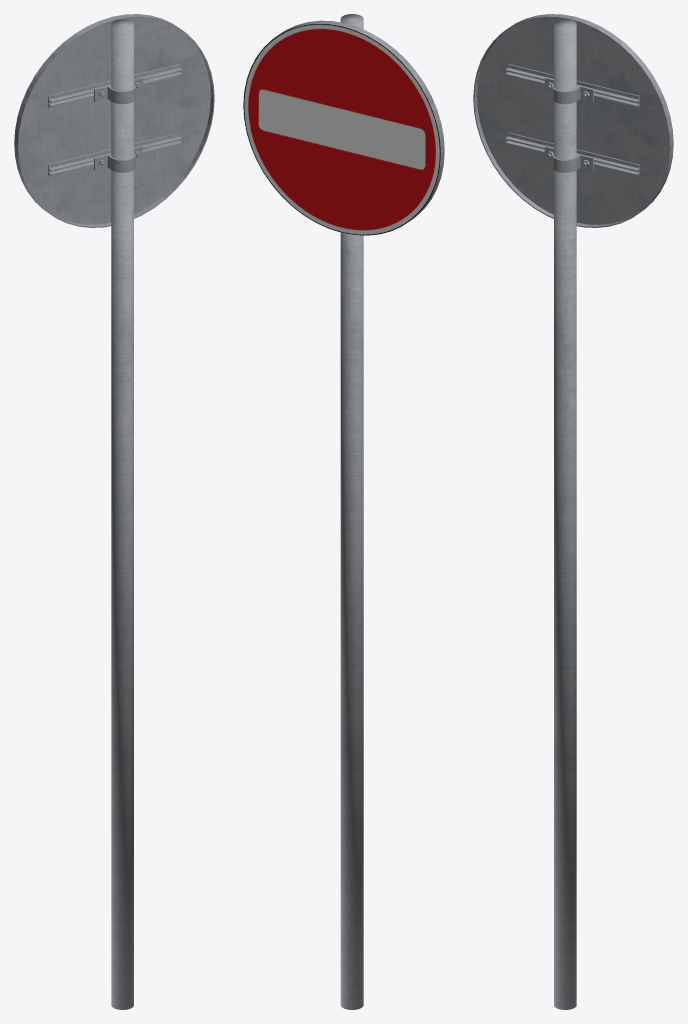
The model's file is No_entry.fbx.
3 views of the same model, side by side, from view 1: azimuth 30°, elevation 25°; view 2: azimuth 150°, elevation 25°; view 3: azimuth 330°, elevation 25° (orthographic).
Parts seen in each view (by area): view 1: No entry; view 2: No entry; view 3: No entry.
Part boxes in pixels (left/top/right/bottom): No entry: left=14, top=14, right=214, bottom=1009; No entry: left=243, top=14, right=444, bottom=1009; No entry: left=473, top=14, right=673, bottom=1009.
Bounding box in the file's own units: 0.0876 × 0.6 × 2.86.
